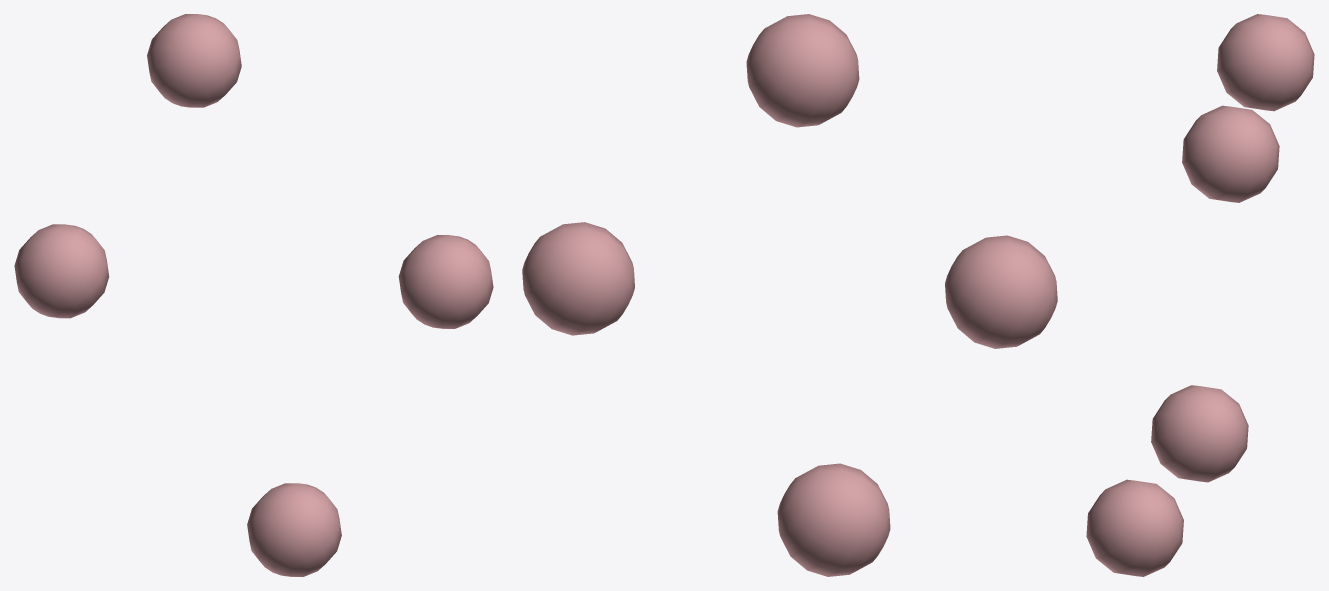
3 views of the same model, side by side, from view 1: azimuth 30°, elevation 25°; view 2: azimuth 150°, elevation 25°; view 3: azimuth 270°, elevation 25° (orthographic). The views are drawn at different scales.
Visible parts, largest first — view 1: ZA_b0756d758f3ebc6f; view 2: ZA_b0756d758f3ebc6f; view 3: ZA_b0756d758f3ebc6f.
Part boxes in pixels (x1,y1,x2,y2): ZA_b0756d758f3ebc6f: (14,14,493,576); ZA_b0756d758f3ebc6f: (522,14,1057,576); ZA_b0756d758f3ebc6f: (1086,14,1314,576).
Bounding box in the file's own units: 0.0141 × 0.0155 × 0.00598.
